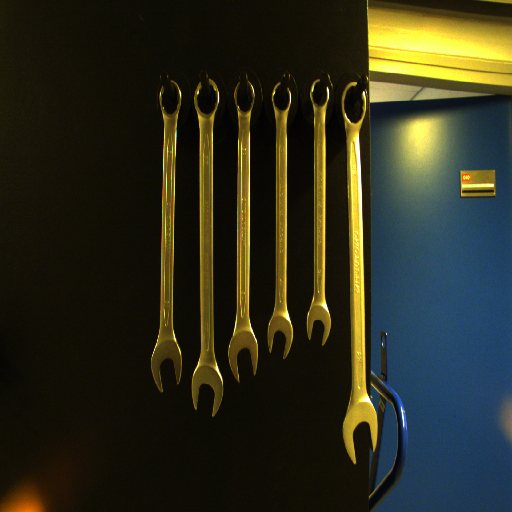bottom: (340, 397, 384, 468), (149, 338, 184, 394), (189, 365, 226, 417), (224, 332, 261, 383), (262, 314, 299, 364), (302, 301, 334, 347)
top: (338, 78, 368, 126), (190, 76, 223, 118), (158, 77, 184, 117), (231, 77, 257, 117), (269, 79, 295, 114), (308, 79, 334, 110)
